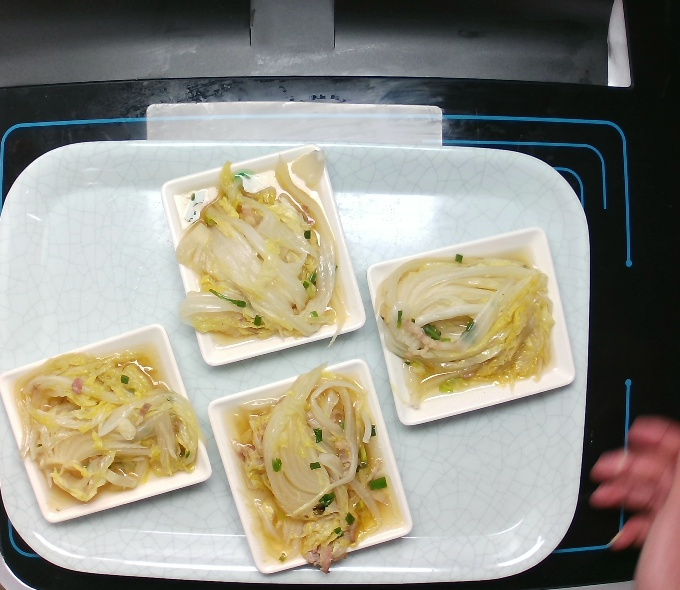wcq-DaBaiCaiRouMou: (223, 358, 396, 573), (171, 147, 350, 351), (8, 341, 203, 507), (374, 249, 559, 404)
